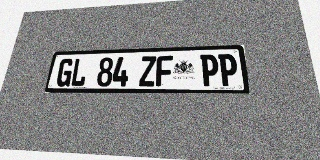4: (112, 57, 130, 86)
8: (96, 57, 114, 87)
F: (156, 56, 173, 86)
G: (55, 58, 74, 87)
L: (70, 58, 89, 87)
P: (218, 54, 239, 86), (200, 54, 219, 86)
Z: (139, 56, 156, 86)
